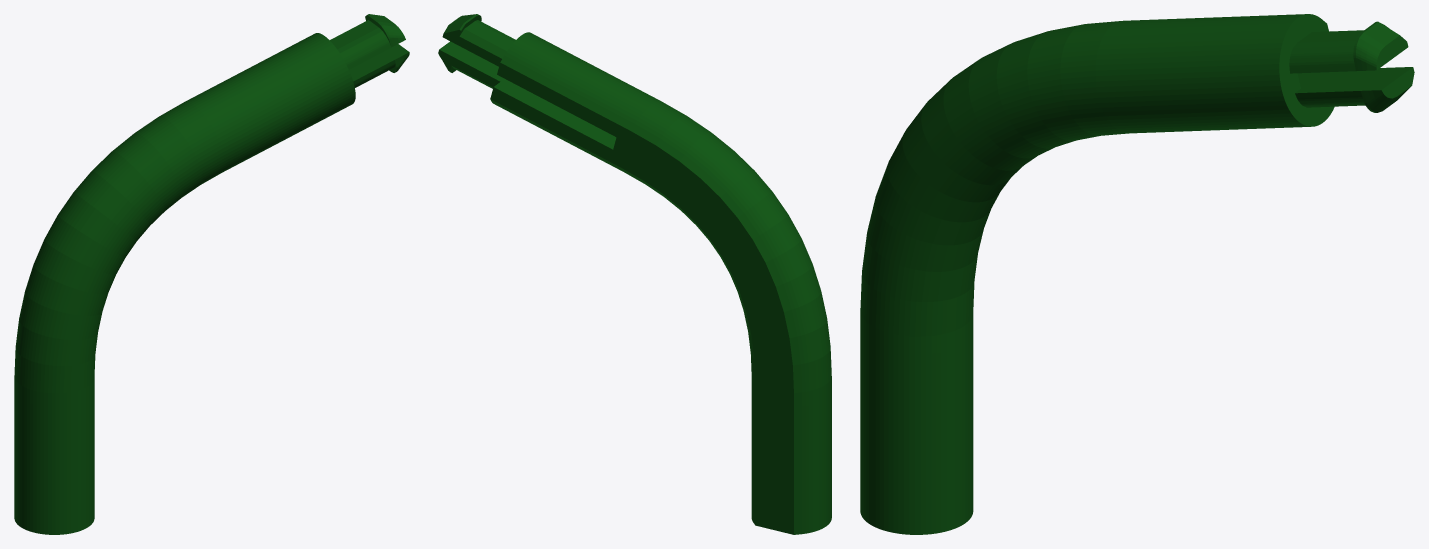
The model's file is stem_1A_75_R.glb.
The picture shows the model from 3 angles, left to right: view 1: azimuth 30°, elevation 25°; view 2: azimuth 150°, elevation 25°; view 3: azimuth 330°, elevation 25°; orthographic projection. The views are drawn at different scales.
Visible parts, largest first — view 1: stem_1A_75R; view 2: stem_1A_75R; view 3: stem_1A_75R.
Part boxes in pixels (bbox=[...]): stem_1A_75R: bbox=[14, 14, 409, 534]; stem_1A_75R: bbox=[438, 14, 831, 534]; stem_1A_75R: bbox=[860, 14, 1414, 534].
Size of the model in its own units: 0.0394 by 0.0417 by 0.00666.
